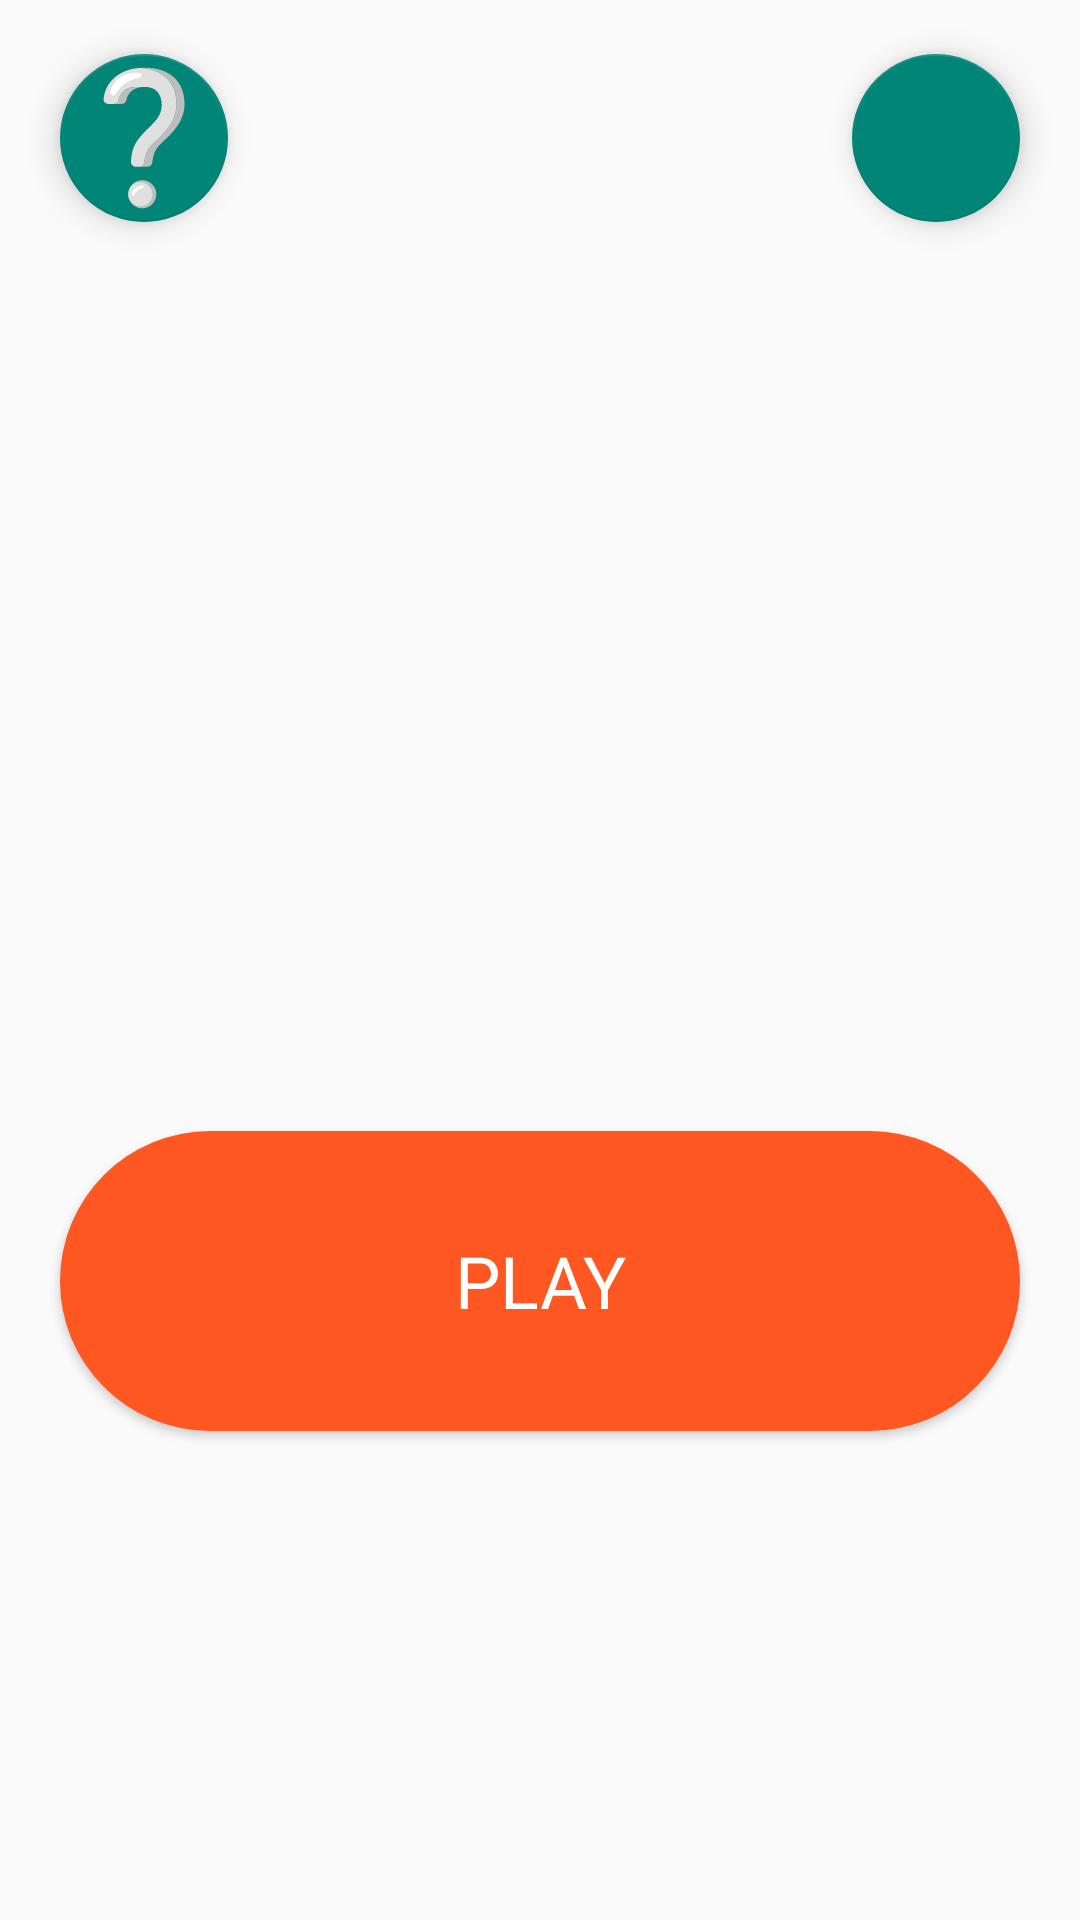

Icons on this 1080px x 1920px Android screen, each with the point to tap as (x=x, y=y):
how to playe: (x=144, y=138)
